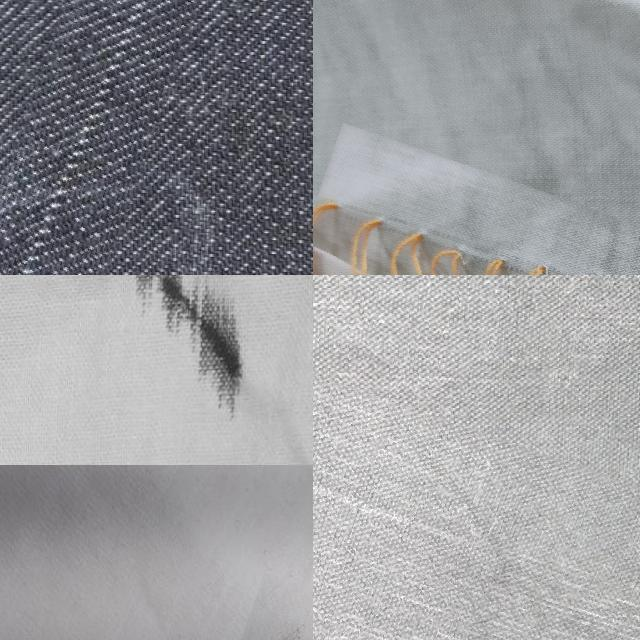Thread_other: (42, 275, 283, 446), (233, 581, 313, 640)
Thread_out: (313, 171, 640, 275)
stains: (313, 377, 640, 640)
